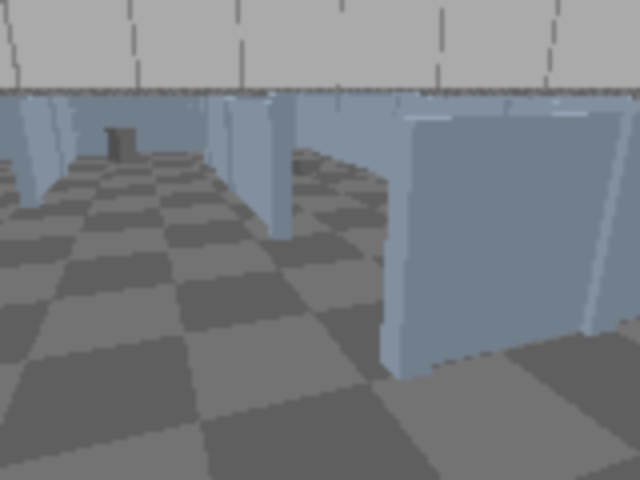obstacle: (106, 127, 139, 163), (291, 156, 320, 176)
